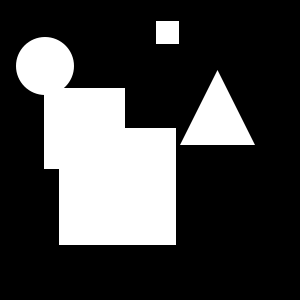circle: (59, 128, 176, 245), (44, 88, 125, 169), (156, 21, 179, 44)
rectangle: (16, 37, 74, 95)
triangle: (180, 70, 255, 145)
